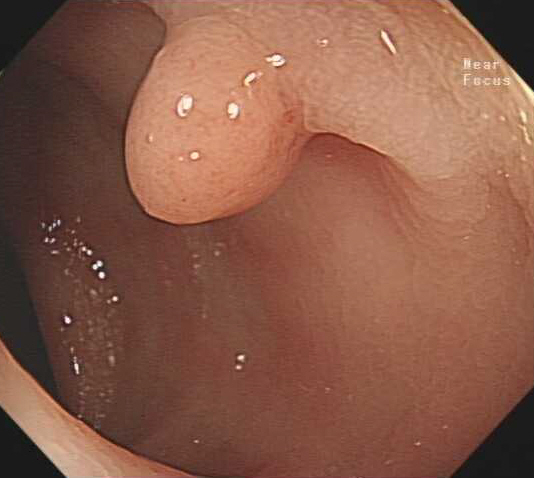adenoma: (120, 13, 310, 226)
